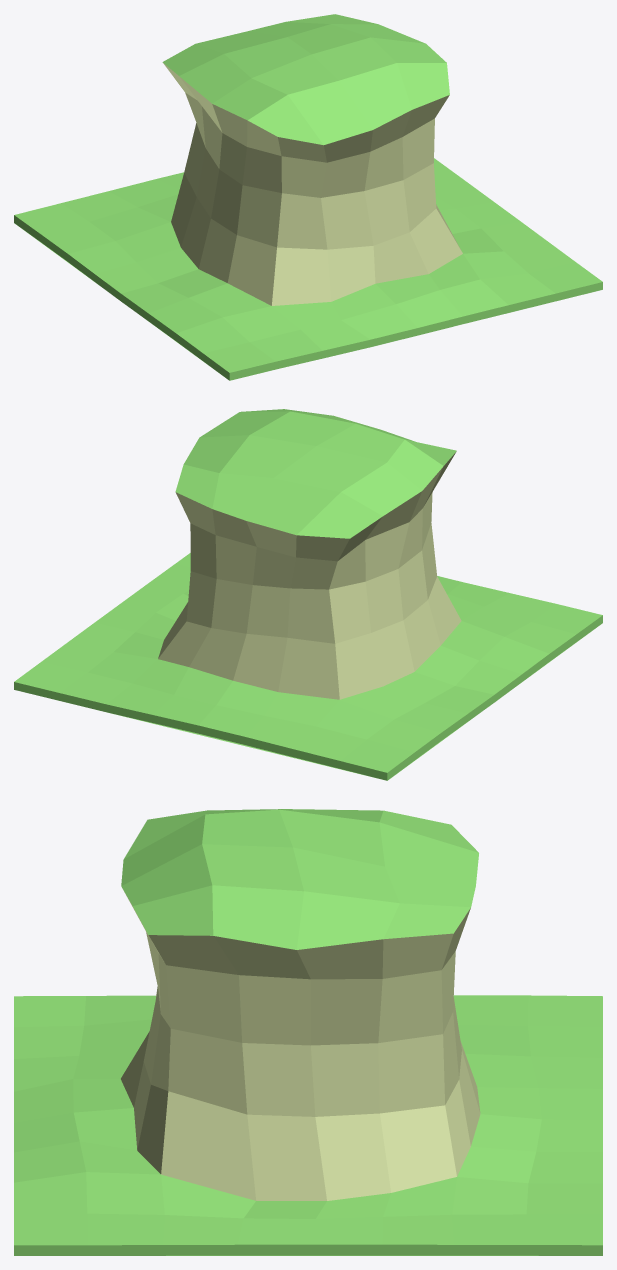
Rendered from wall_slim_single_1.glb.
The picture shows the model from 3 angles, top to bottom: view 1: azimuth 30°, elevation 25°; view 2: azimuth 150°, elevation 25°; view 3: azimuth 270°, elevation 25°; orthographic projection. The views are drawn at different scales.
Visible parts, largest first — view 1: wall_slim_single_1; view 2: wall_slim_single_1; view 3: wall_slim_single_1.
Part boxes in pixels (<box>): wall_slim_single_1: <box>14,14,602,380</box>; wall_slim_single_1: <box>14,409,602,780</box>; wall_slim_single_1: <box>14,809,602,1255</box>.
Bounding box in the file's own units: 2 × 1.06 × 2.
